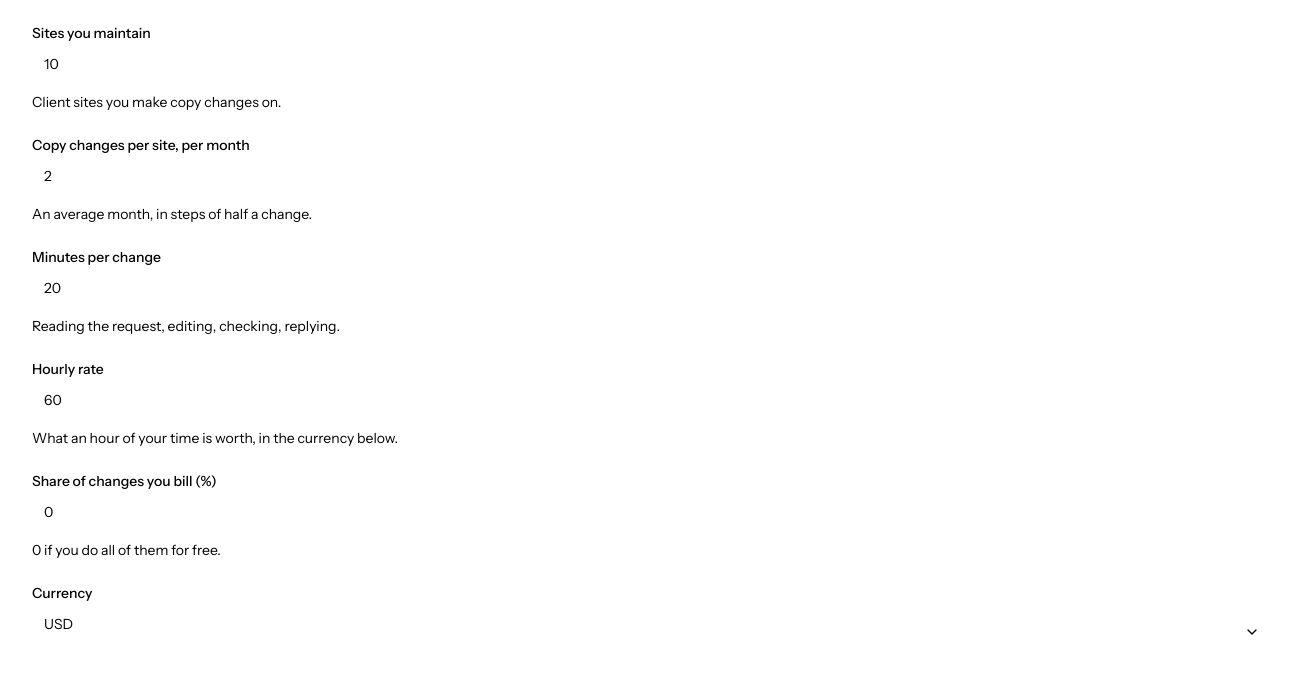
Test: CostCalculator › allows cents in the hourly rate
Replace the text in the number field labelled "Hourly rate" with "59.5" at (652, 400), box top-left (32, 380), bottom-right (1272, 420)
(page scrolled)
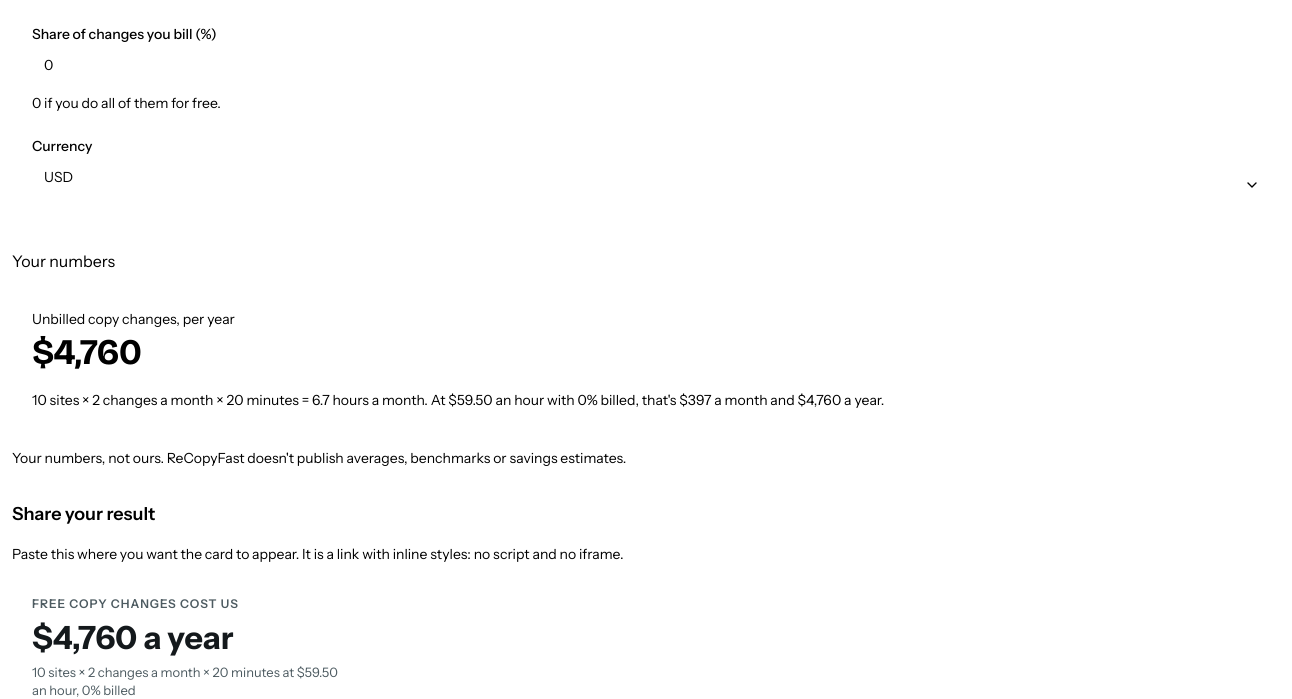
Check: the element with test id "result-panel" shows "At $59.50 an hour", box top-left (32, 391), bottom-right (884, 409)
